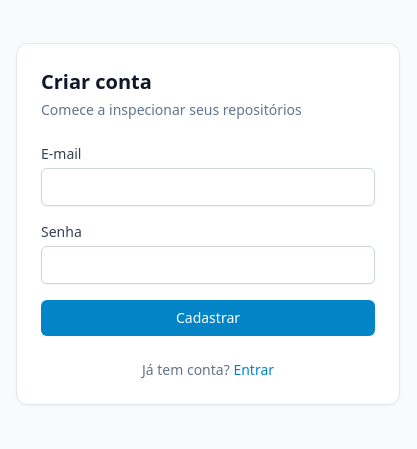
Scenario: RegisterPage › shows a duplicate-email message on 409
In the field labelled "E-mail": (208, 187) [41,168,375,206], type "dup@example.com"
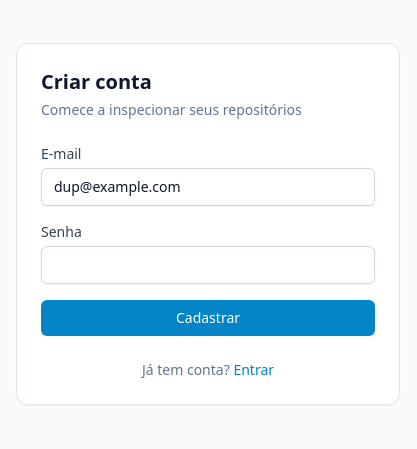
In the password field labelled "Senha": (208, 265) [41,246,375,284], type "super-secret-123"
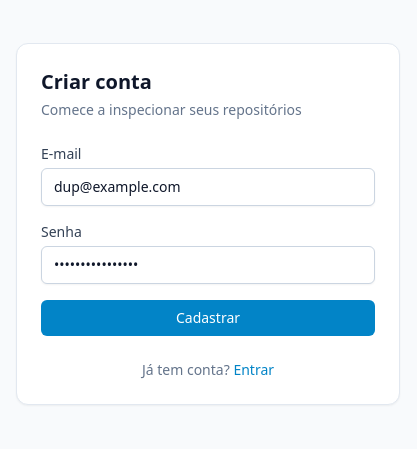
Click the button "Cadastrar": (208, 318) [41,300,375,336]
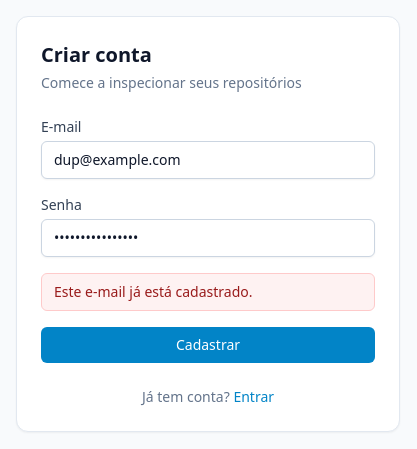
Expected: the message reads "Este e-mail já está cadastrado.", [54,282,252,301]
